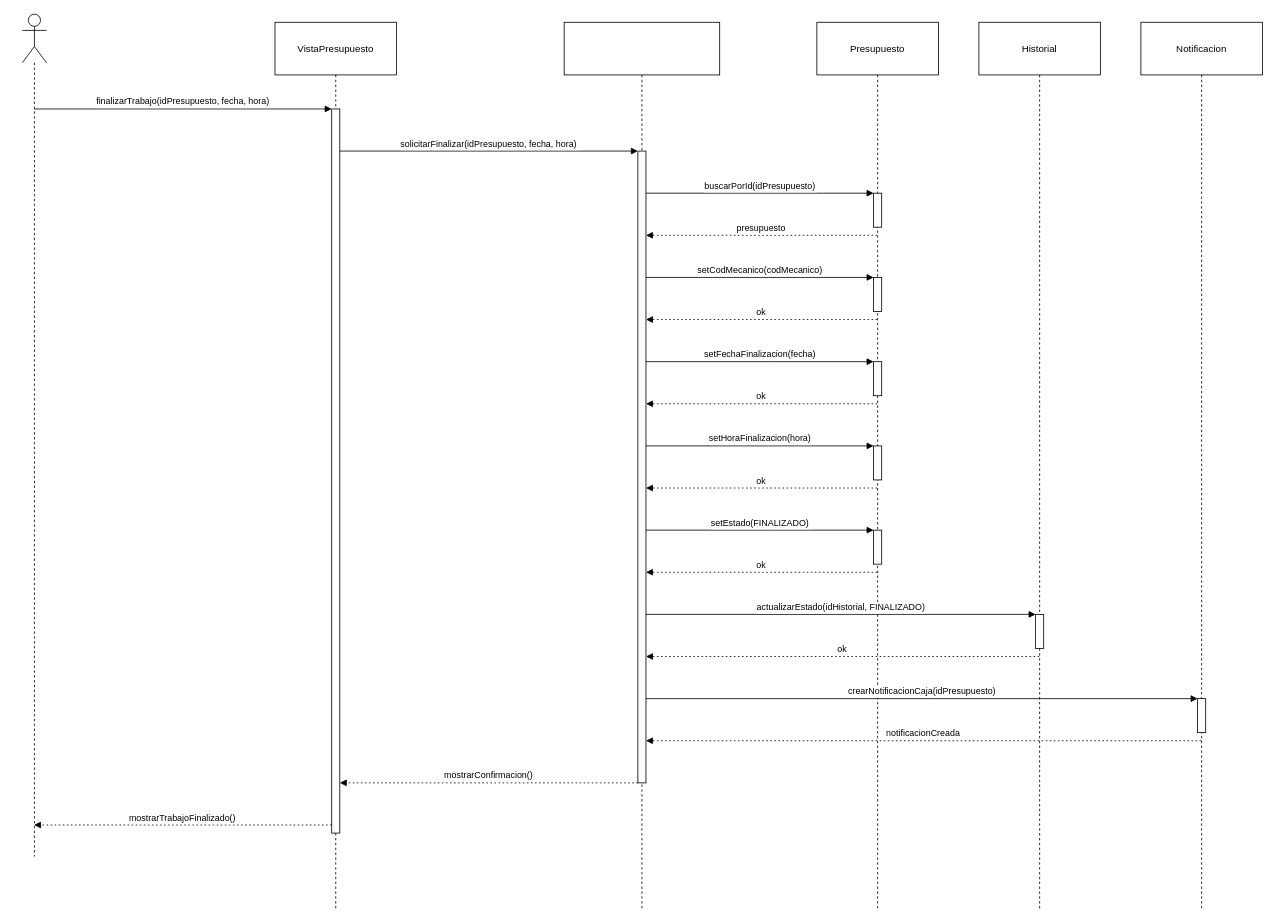
This 1277x924 diagram has some shape labels left out. Each missing label, with the box of its shape:
ControladorPresupuesto: (563, 21, 720, 910)
Mecanico: (21, 13, 47, 63)
